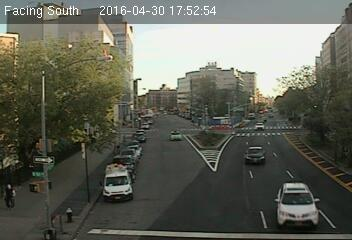neg: (321, 112, 345, 144), (120, 137, 142, 166), (64, 164, 84, 191), (316, 183, 335, 208), (267, 93, 285, 117), (85, 65, 102, 88), (87, 43, 104, 65), (103, 183, 119, 204), (268, 188, 284, 209), (199, 165, 212, 182)
